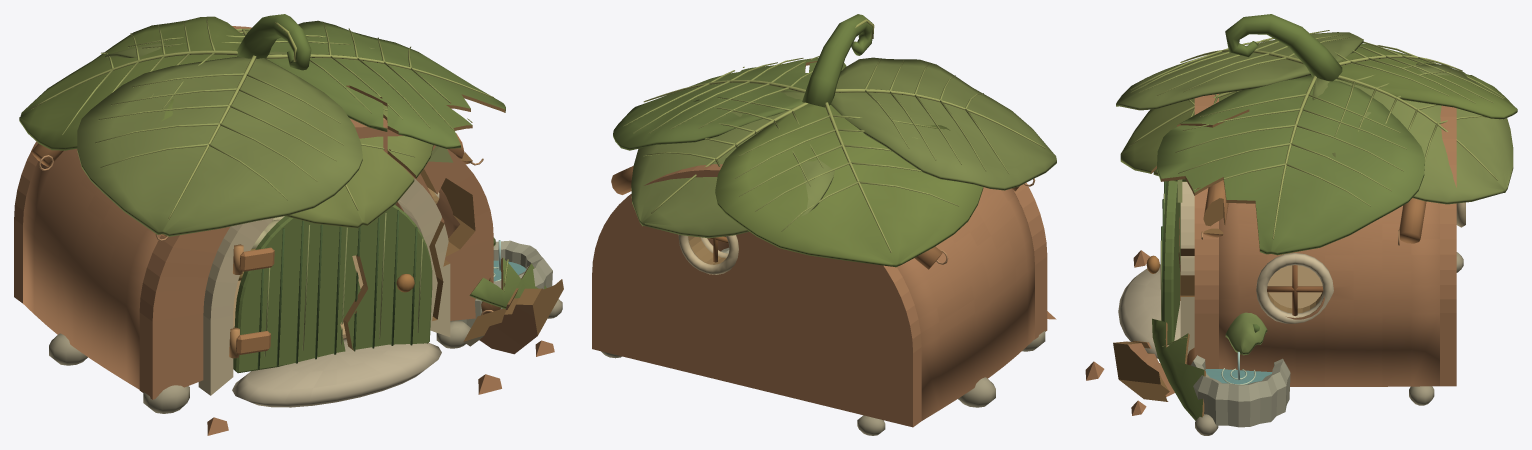
3 renders of one model, left to right at view 1: azimuth 30°, elevation 25°; view 2: azimuth 150°, elevation 25°; view 3: azimuth 270°, elevation 25°, orthographic. The views are drawn at different scales.
Visible parts, largest first — view 1: roof_assembly, asset_root_geometry, door_assembly, authored_static_debris, torn_leaf_edge; view 2: asset_root_geometry, roof_assembly; view 3: roof_assembly, asset_root_geometry, door_assembly, authored_static_debris, torn_leaf_edge.
Boxes of the visible parts, x1,y1,x2,y2 form: roof_assembly: (19, 14, 505, 241); asset_root_geometry: (14, 26, 562, 413); door_assembly: (229, 204, 432, 373); authored_static_debris: (207, 279, 563, 435); torn_leaf_edge: (469, 257, 546, 315); asset_root_geometry: (592, 164, 1047, 435); roof_assembly: (611, 14, 1056, 269); roof_assembly: (1116, 14, 1517, 255); asset_root_geometry: (1118, 94, 1465, 435); door_assembly: (1146, 180, 1180, 345); authored_static_debris: (1085, 250, 1174, 415); torn_leaf_edge: (1152, 318, 1205, 420).
Bounding box in the file's own units: 0.3104 × 0.2265 × 0.2834.
